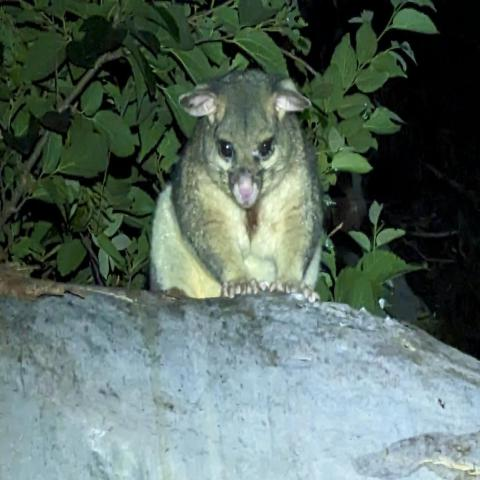small_animal: (149, 66, 325, 300)
